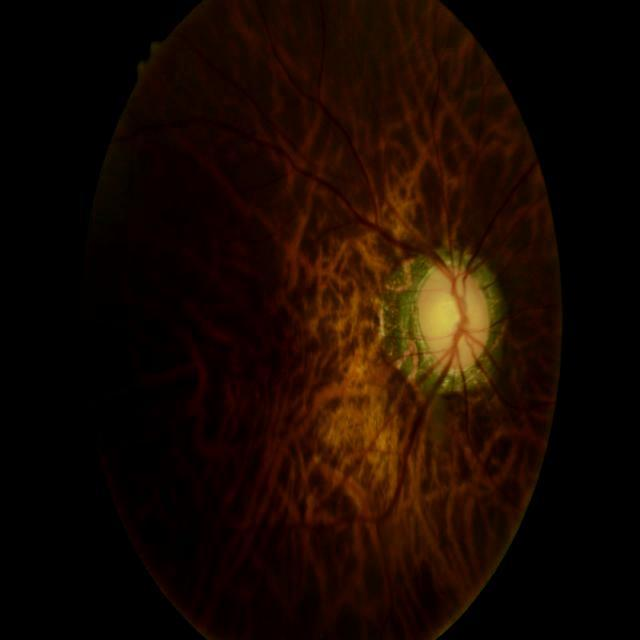cup: (428, 277, 473, 357)
disk: (414, 261, 490, 374)
